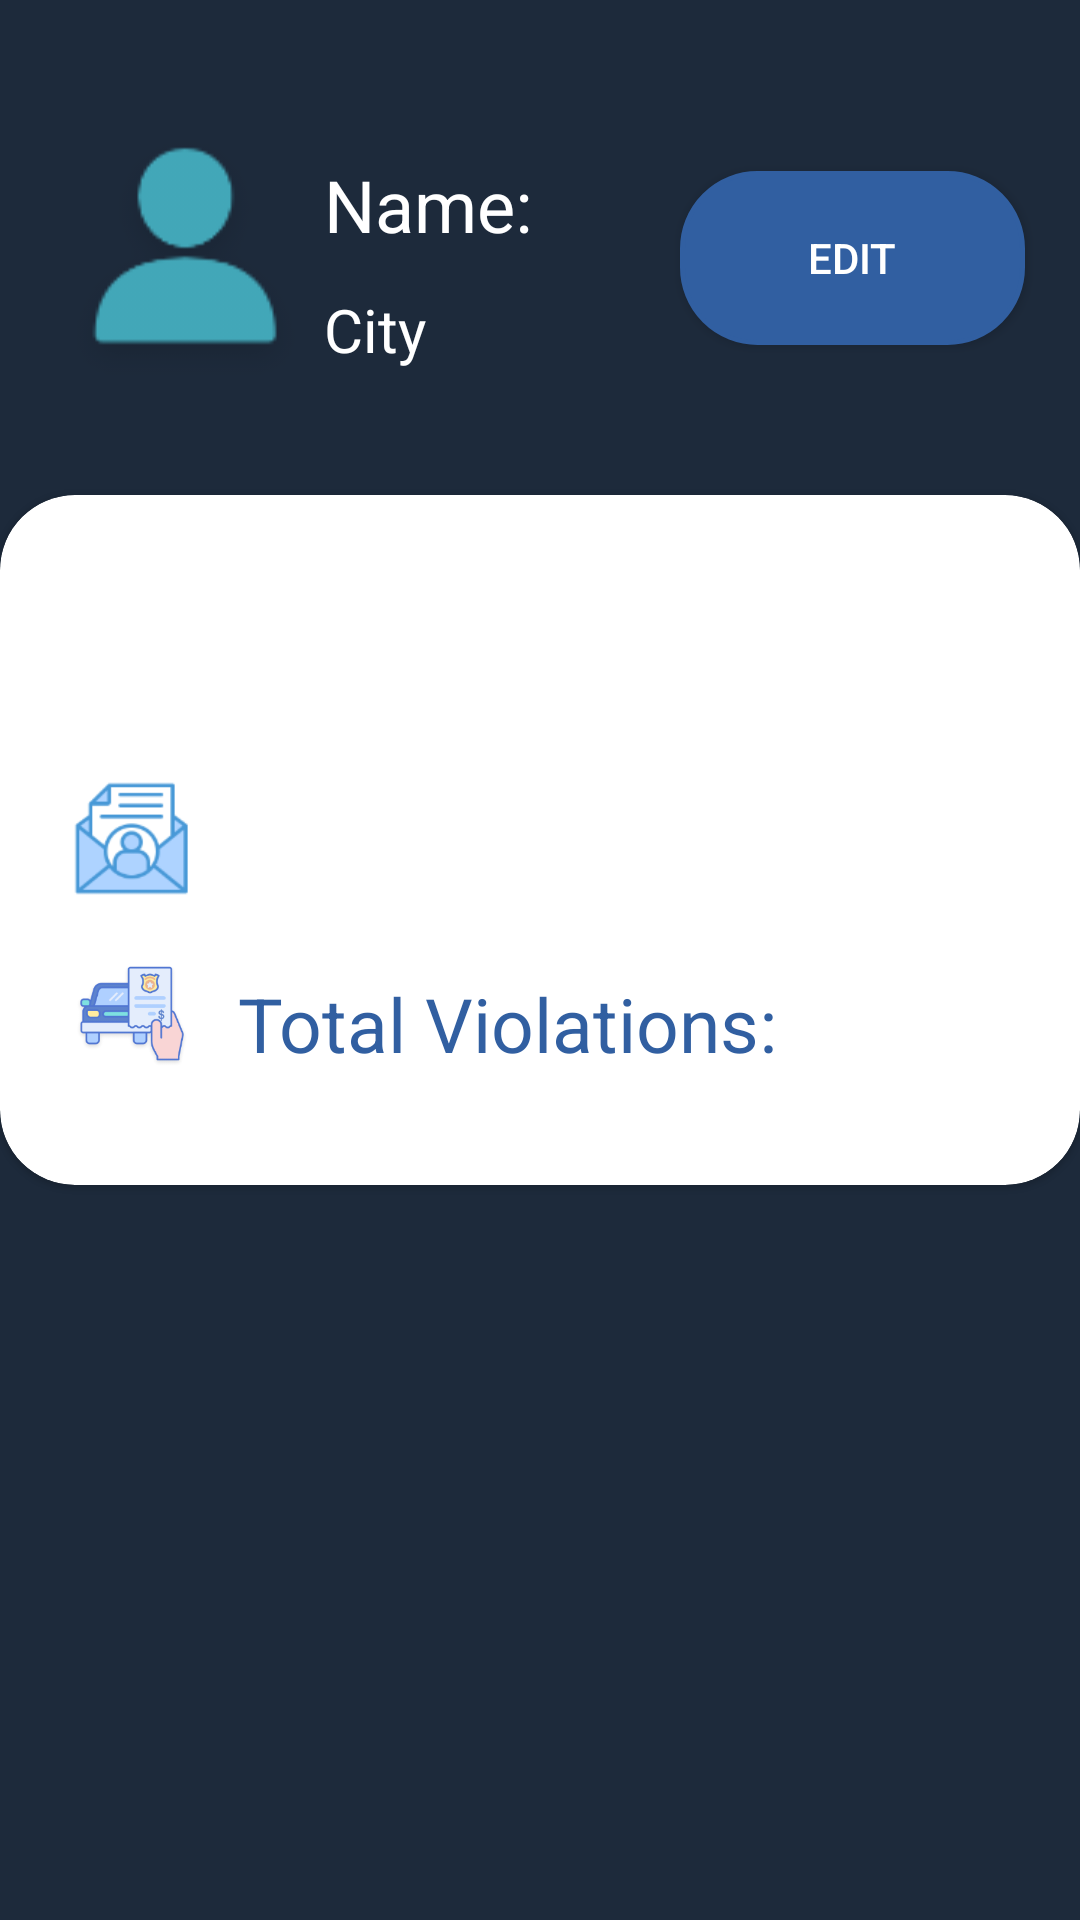

Icon bounding boxes for this 1080w x 1920h phone screenshot, format (x1, y1, x2, y2):
email: (75, 783, 188, 894)
fine: (80, 966, 184, 1061)
user: (94, 148, 277, 344)
